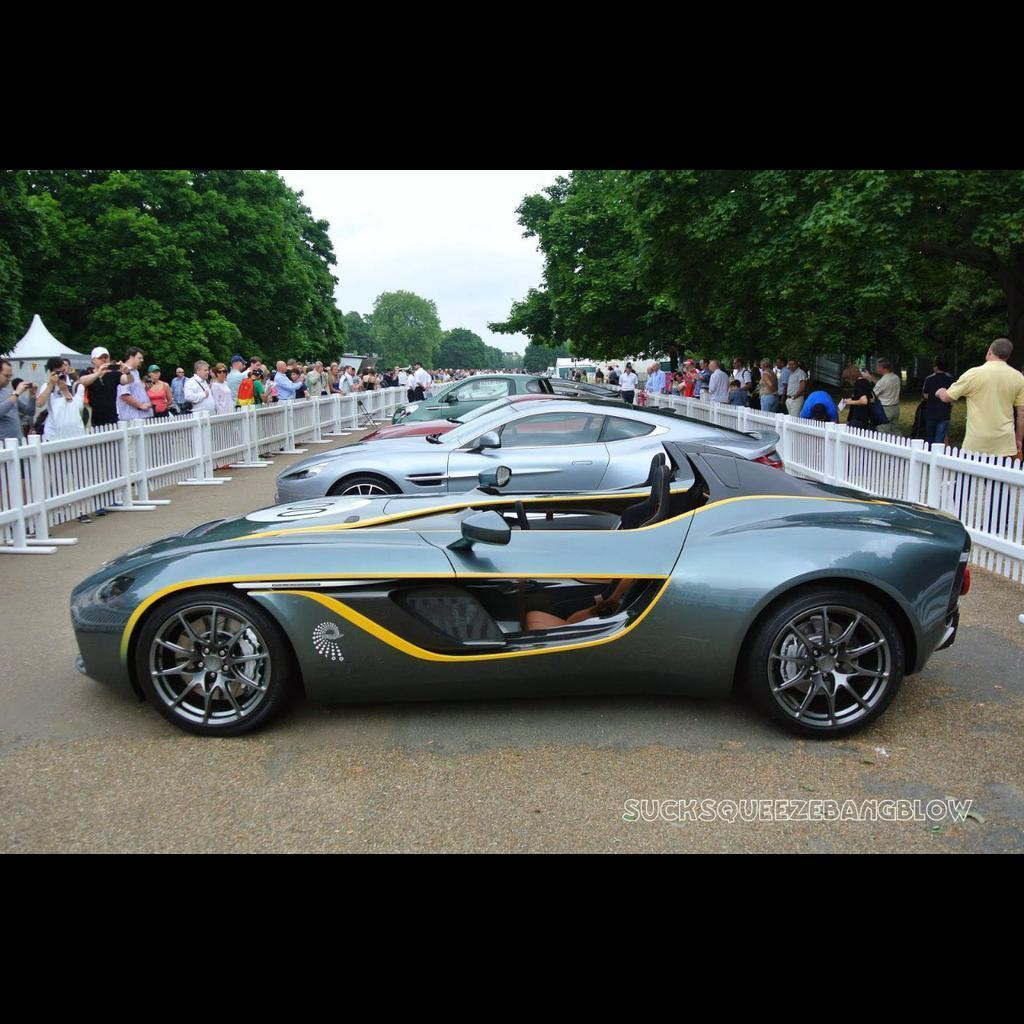aero: (314, 580, 508, 653)
fender: (693, 510, 960, 620), (113, 536, 348, 622)
headlamp: (98, 575, 135, 602)
mirror: (446, 510, 510, 553), (475, 465, 512, 488)
opening: (387, 580, 666, 649)
rearlamp: (961, 560, 970, 595)
sports: (67, 441, 971, 742)
wheel: (766, 605, 891, 726), (148, 604, 270, 724)
